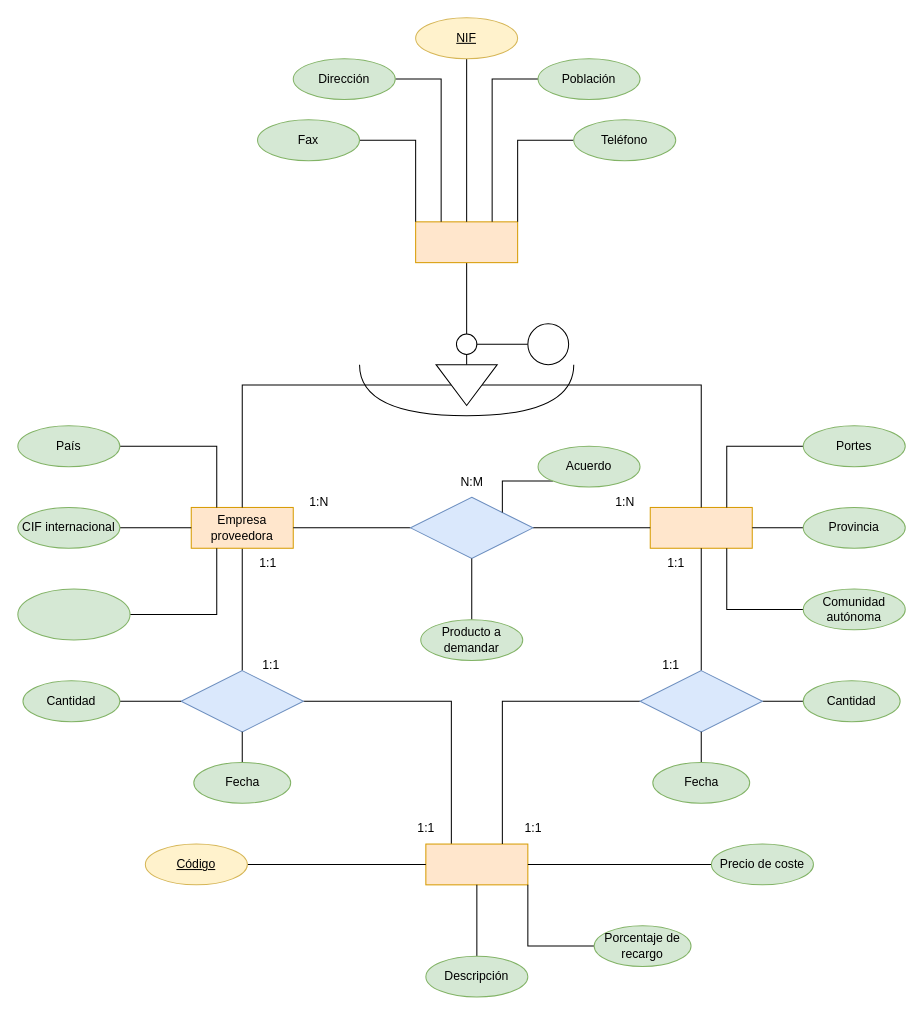
Image size: 923x1015. Some labels were removed from this diagram. The shapes that lost their labels are listed below. From the top down, each one's box as (x1, y1, x2, y2) in pixels, then its label:
(415, 221, 518, 263): Empresa
(527, 323, 569, 365): Tipo
(410, 496, 533, 558): Contacta
(649, 506, 752, 548): Empresa cliente
(17, 588, 130, 640): Nombre de la persona de contacto
(180, 670, 303, 732): Provee
(639, 670, 762, 732): Compra
(425, 843, 528, 885): Producto
